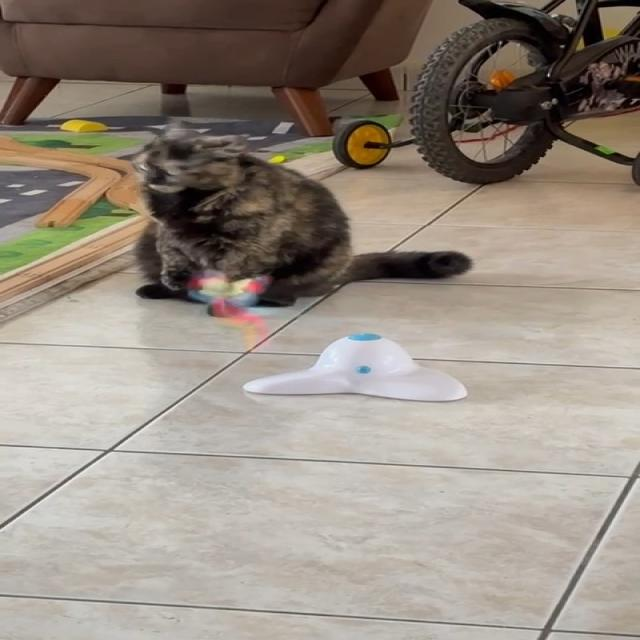authorized: (128, 121, 473, 307)
